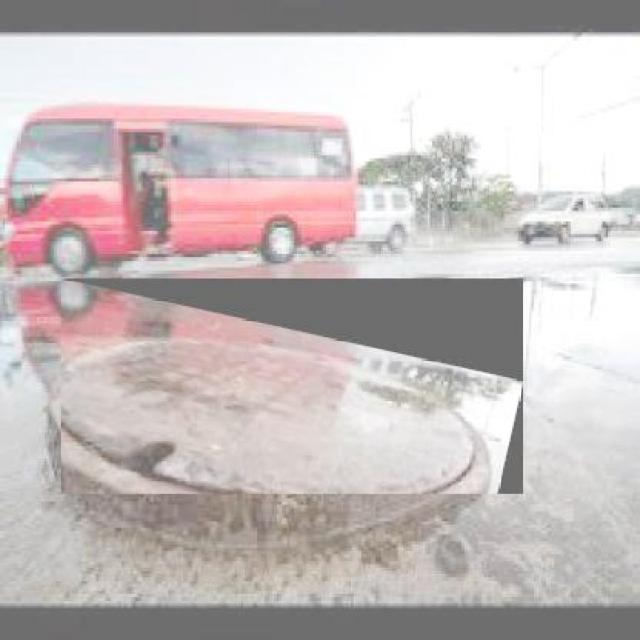Manhole: (60, 280, 523, 494)
